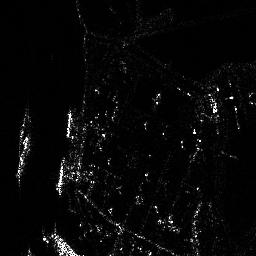ship: (51, 234, 79, 256), (16, 134, 29, 178), (53, 158, 67, 196), (63, 109, 73, 140)
